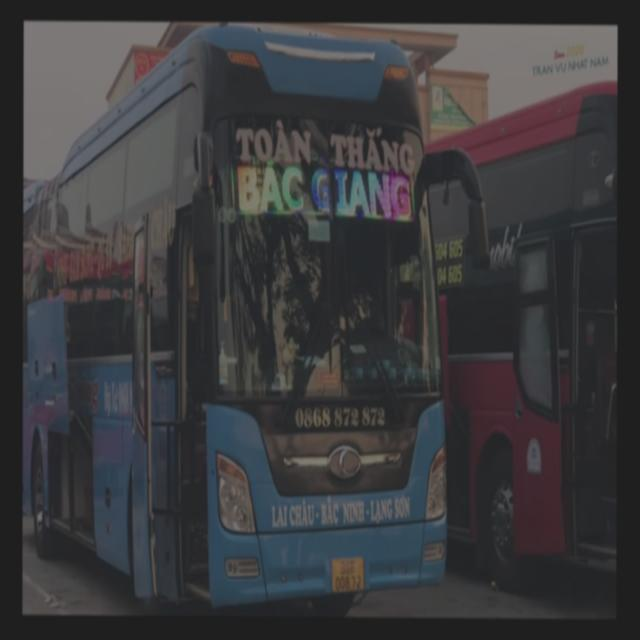bien_vang: (332, 558, 363, 592)
